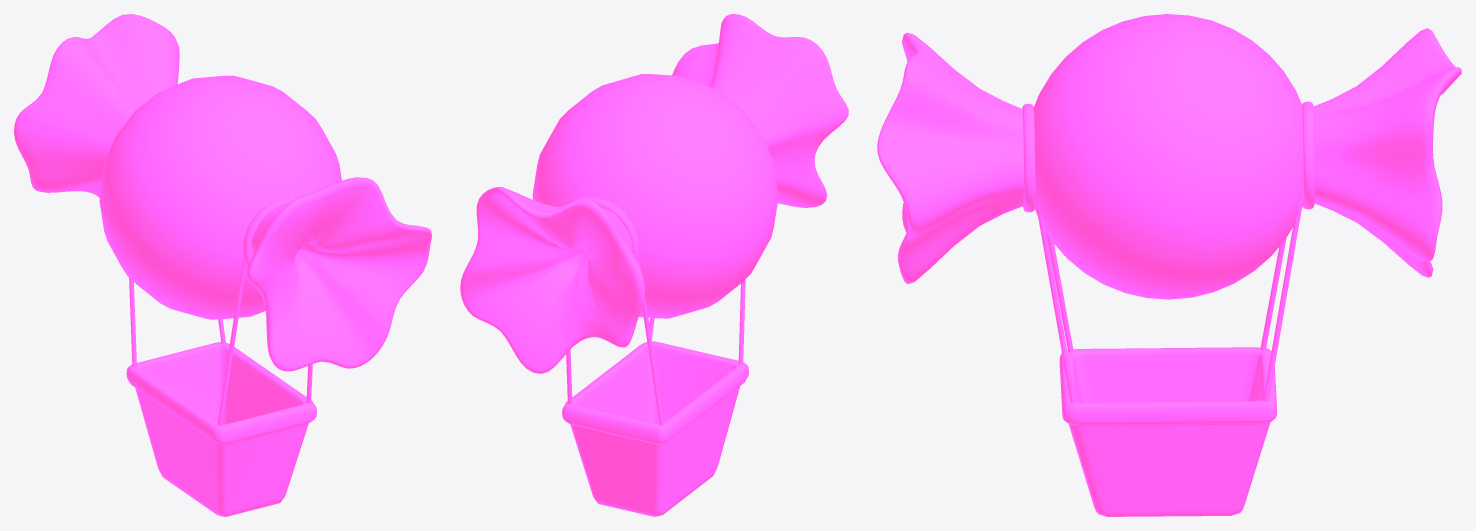
The model's file is glowingSpaceship.glb.
The picture shows the model from 3 angles, left to right: view 1: azimuth 30°, elevation 25°; view 2: azimuth 150°, elevation 25°; view 3: azimuth 270°, elevation 25°; orthographic projection. The views are drawn at different scales.
Visible parts, largest first — view 1: blueSpaceshi light; view 2: blueSpaceshi light; view 3: blueSpaceshi light.
Part boxes in pixels (box(x1,y1,x2,y2)): blueSpaceshi light: box(14, 14, 431, 516); blueSpaceshi light: box(460, 14, 848, 516); blueSpaceshi light: box(877, 14, 1461, 516).
Size of the model in its own units: 1.6 by 2.91 by 3.25.
